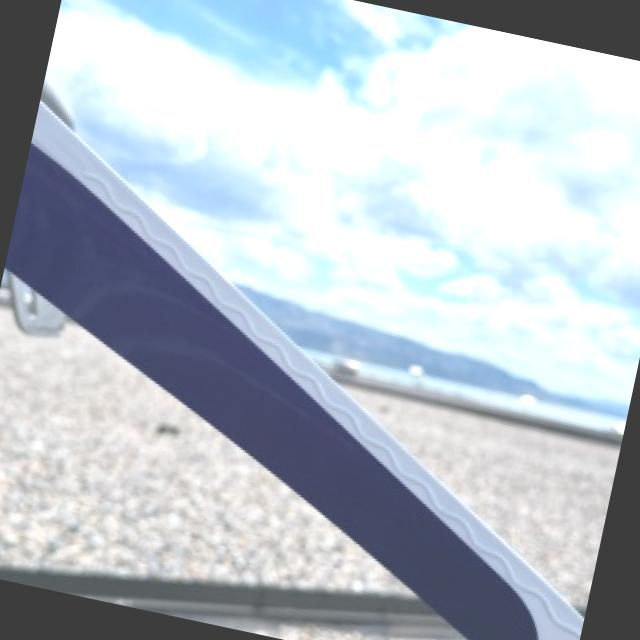healthy: (7, 102, 584, 640), (0, 361, 397, 586)
